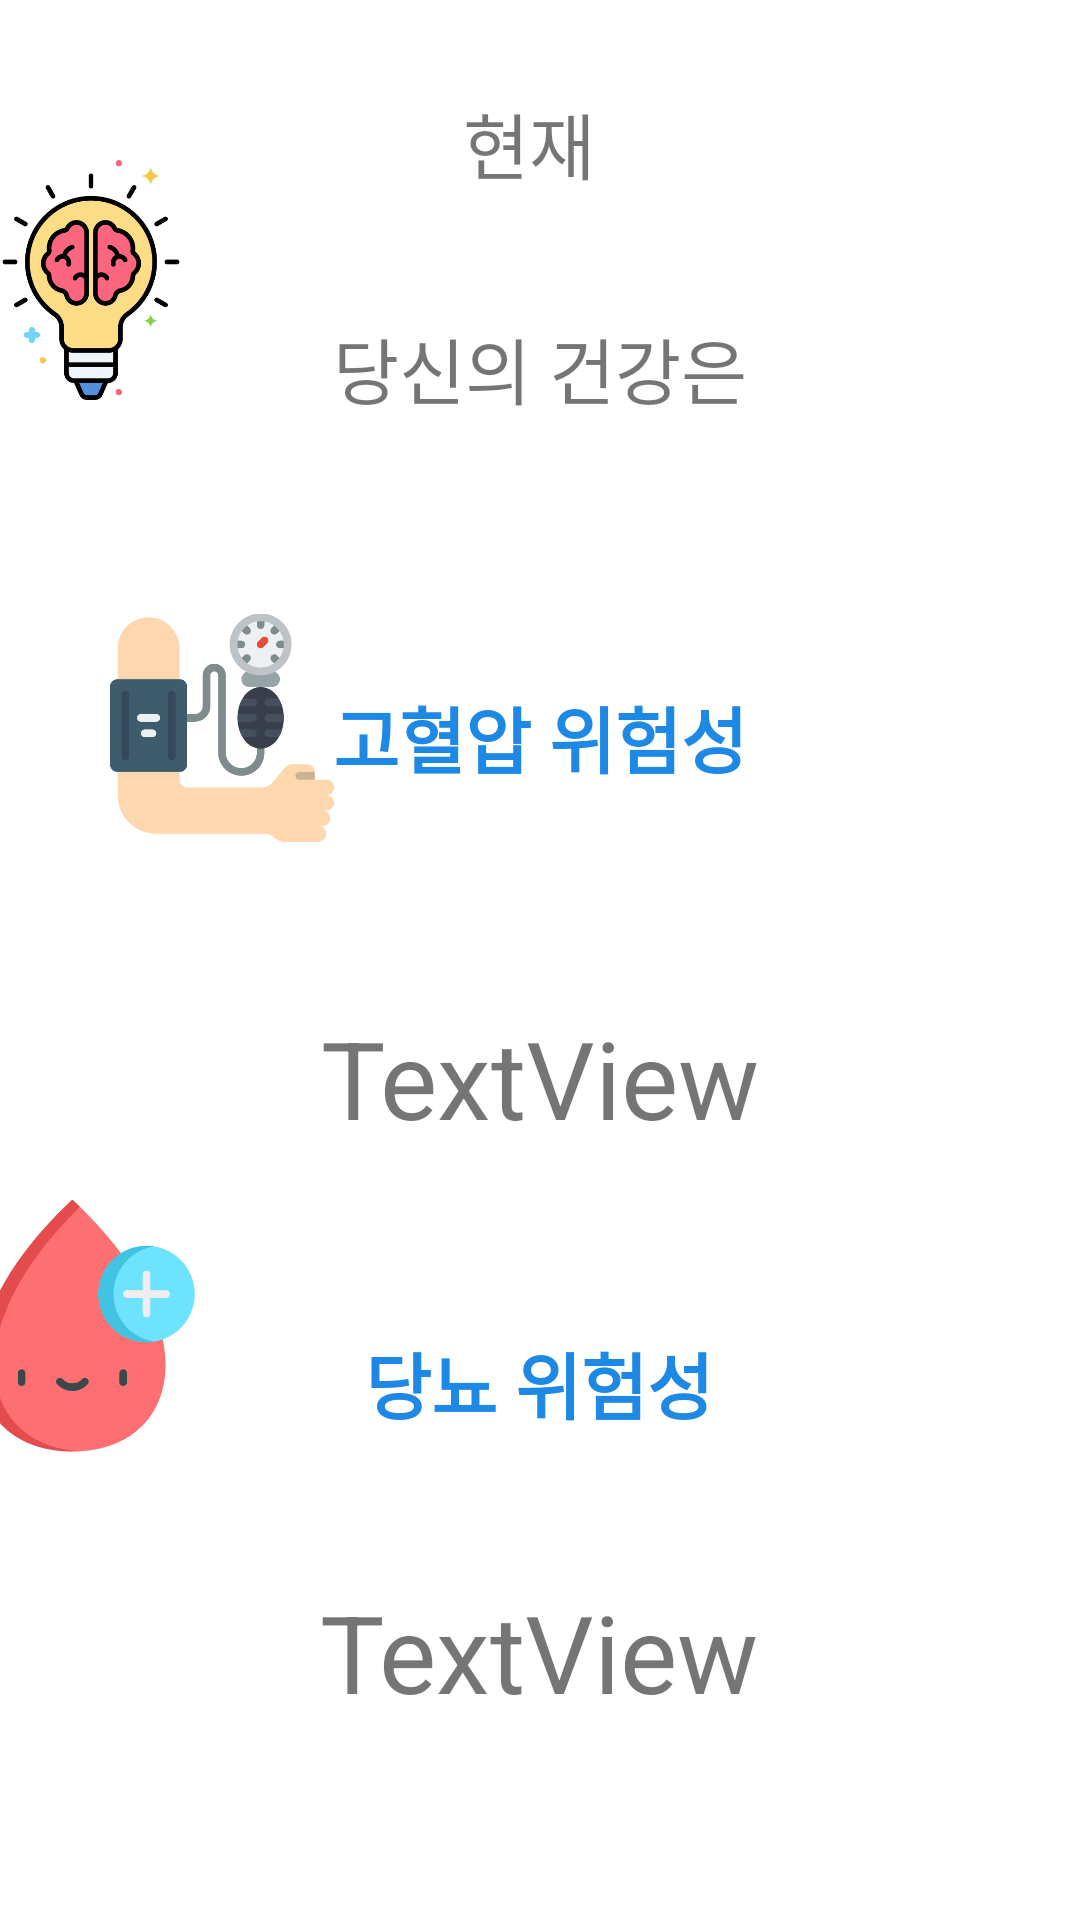

Screen size 1080 × 1920. Icon name, then its center in pixels as point (x, y):
pressure: point (222, 728)
